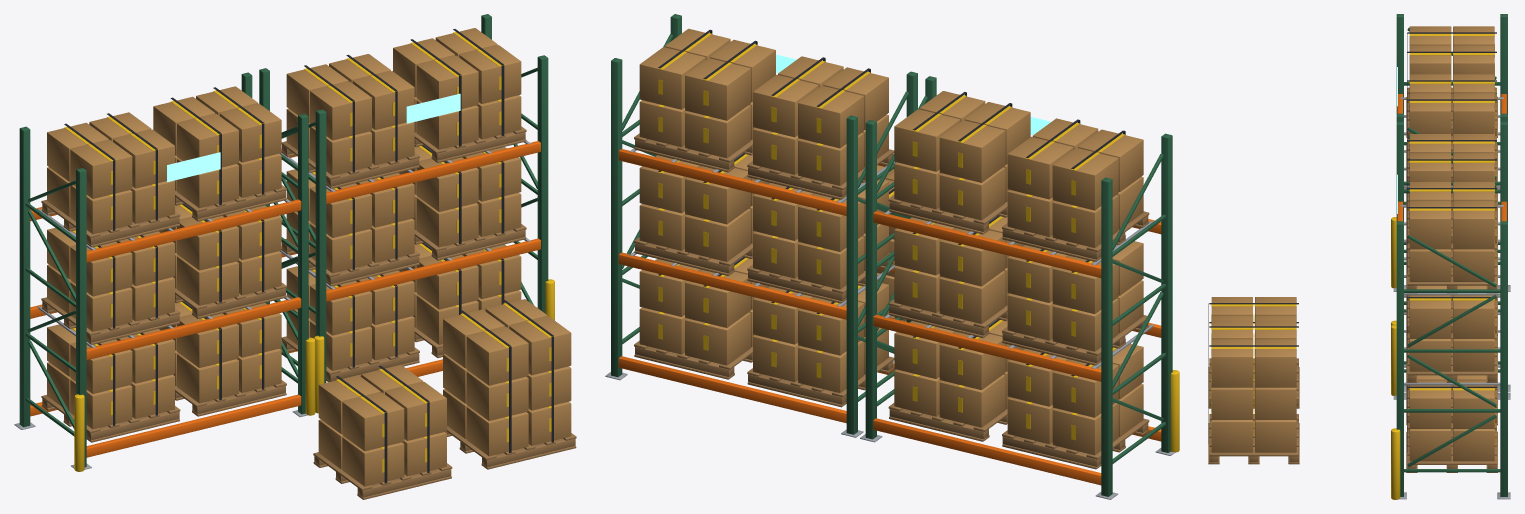
Rendered from Station_FinishedGoodsStore.fbx.
3 views of the same model, side by side, from view 1: azimuth 30°, elevation 25°; view 2: azimuth 150°, elevation 25°; view 3: azimuth 270°, elevation 25° (orthographic). The views are drawn at different scales.
Parts seen in each view (by area): view 1: Rack B, Rack A, Staged Pallet A, Staged Pallet B, Column Guards; view 2: Rack B, Rack A, Column Guards; view 3: Rack A, Staged Pallet A, Rack B, Staged Pallet B, Column Guards.
Boxes of the visible parts, left/top/right/bottom form: Rack B: left=14, top=72, right=308, bottom=469; Rack A: left=259, top=14, right=548, bottom=383; Staged Pallet A: left=443, top=299, right=576, bottom=469; Staged Pallet B: left=313, top=364, right=452, bottom=499; Column Guards: left=74, top=279, right=554, bottom=471; Rack B: left=860, top=76, right=1175, bottom=499; Rack A: left=605, top=14, right=917, bottom=437; Column Guards: left=1170, top=370, right=1179, bottom=452; Rack A: left=1393, top=121, right=1510, bottom=499; Staged Pallet A: left=1208, top=320, right=1299, bottom=464; Rack B: left=1393, top=14, right=1510, bottom=391; Staged Pallet B: left=1208, top=297, right=1299, bottom=408; Column Guards: left=1391, top=217, right=1400, bottom=499.
Size of the model in its own units: 5.4 by 3.2 by 3.21.
